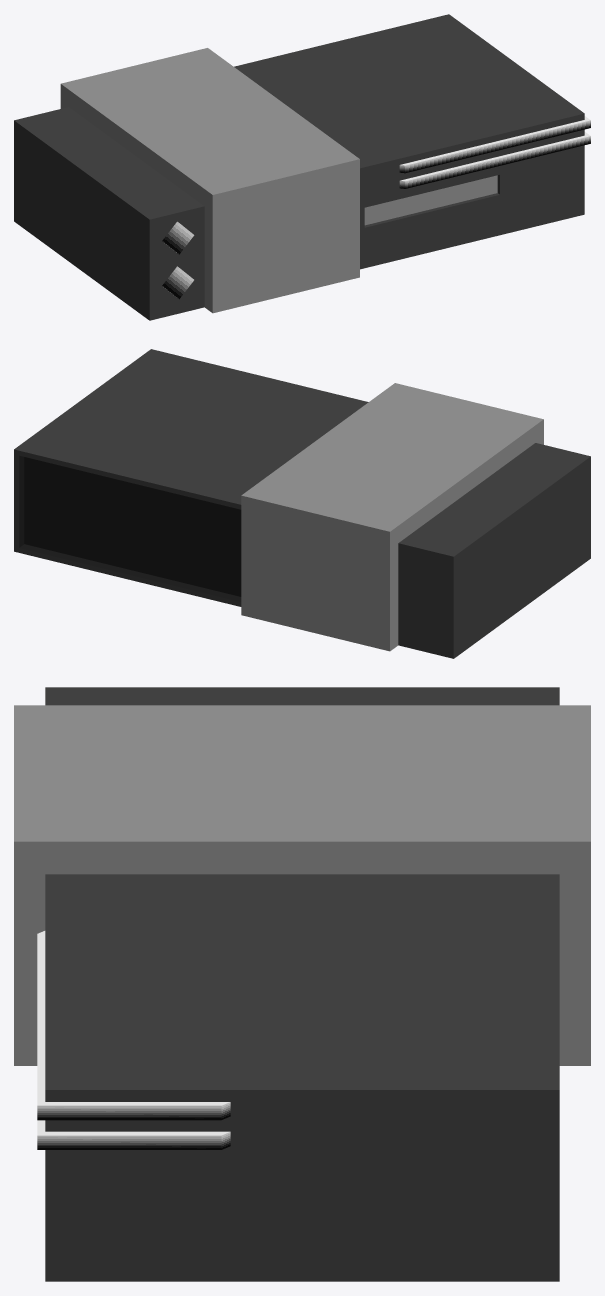
Rendered from tech_small_A.FBX.
3 renders of one model, top to bottom at view 1: azimuth 30°, elevation 25°; view 2: azimuth 150°, elevation 25°; view 3: azimuth 270°, elevation 25°, orthographic. The views are drawn at different scales.
Parts seen in each view (by area): view 1: tech_small_A, tech_small_A_glow; view 2: tech_small_A; view 3: tech_small_A, tech_small_A_glow.
Part boxes in pixels (<box>): tech_small_A: <box>14,14,584,320</box>; tech_small_A_glow: <box>162,116,590,299</box>; tech_small_A: <box>14,349,590,658</box>; tech_small_A: <box>14,687,590,1281</box>; tech_small_A_glow: <box>37,931,230,1149</box>.
Bounding box in the file's own units: 37.31 × 9.61 × 22.38.
